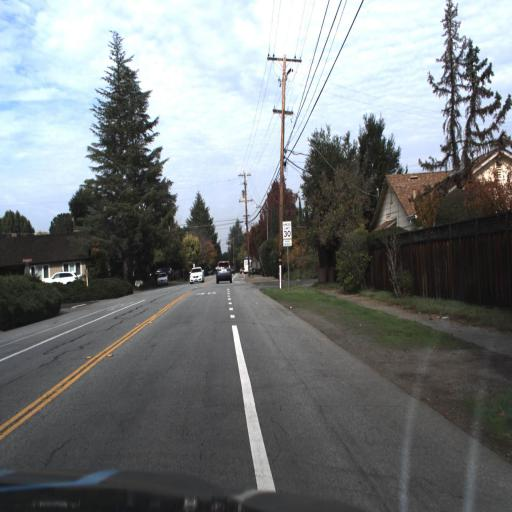car: (42, 268, 79, 290), (212, 255, 234, 289), (151, 264, 168, 290), (188, 264, 205, 288), (242, 254, 250, 274)
